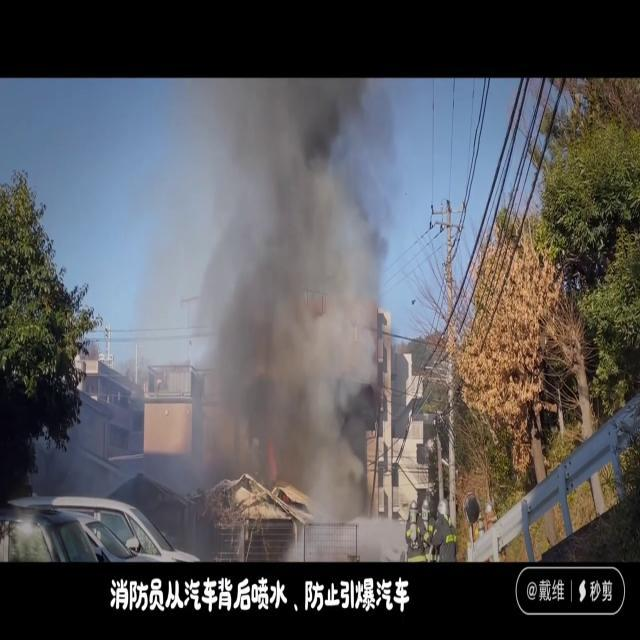Smoke: (158, 79, 404, 540)
